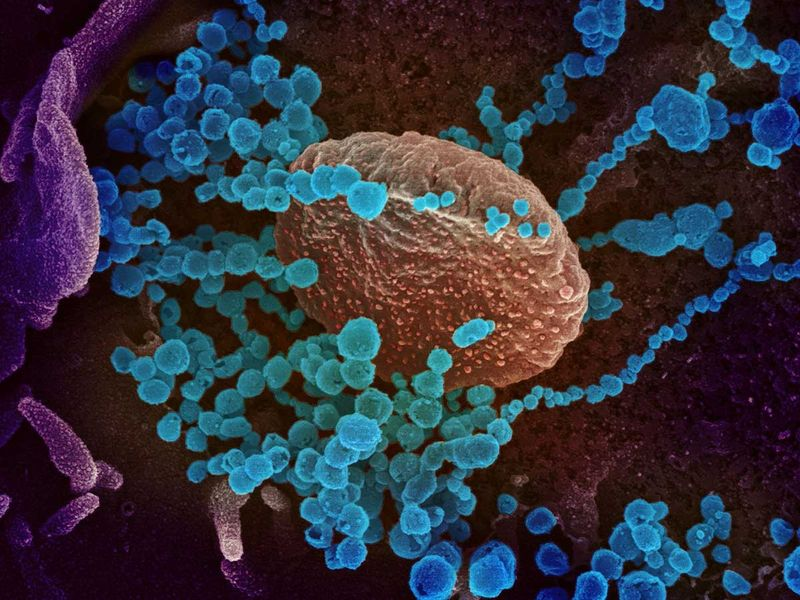COVID19: (145, 56, 622, 423)
